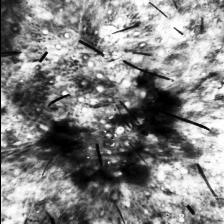Potentially Malignant Skin Tumors: (47, 82, 188, 181)
